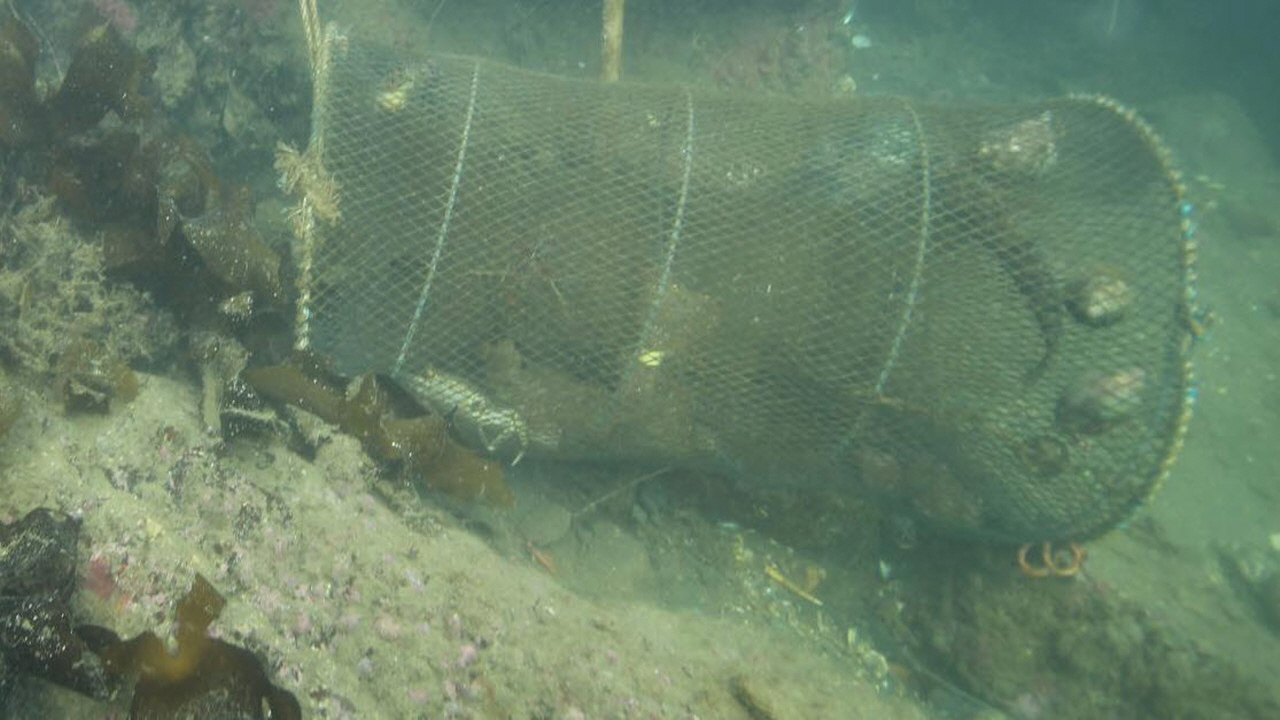bundle of ropes: (300, 0, 322, 85)
spring fish trap: (294, 21, 1197, 547)
